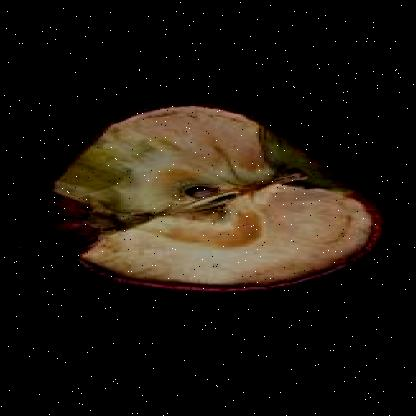damaged_apple: (48, 105, 380, 287)
